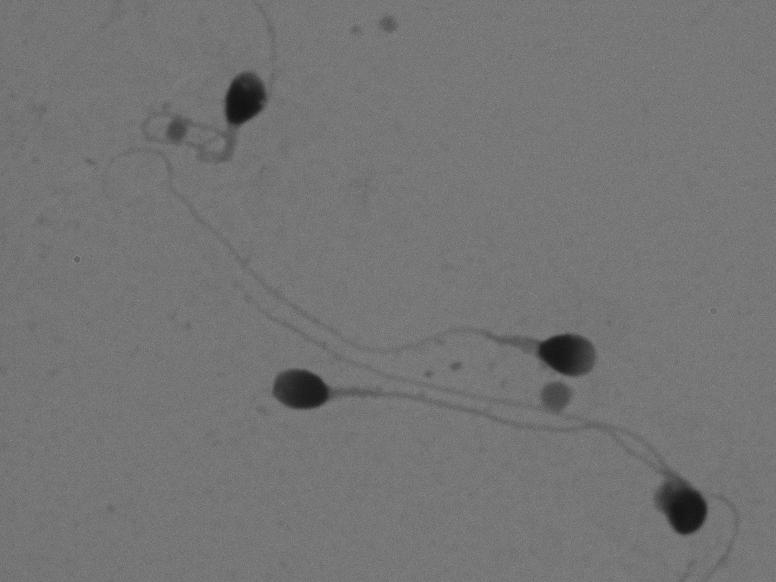Abnormal: (84, 133, 630, 388), (416, 377, 708, 557), (113, 27, 336, 183)
Normal: (255, 342, 654, 493)
